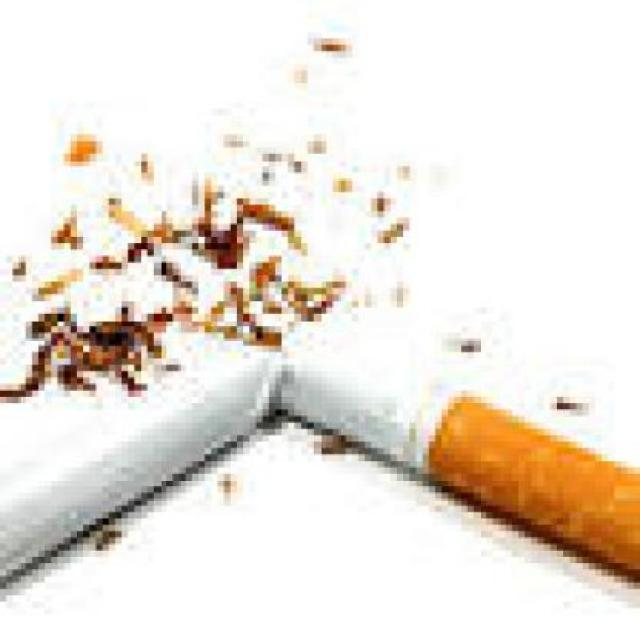cigarette: (281, 327, 634, 588), (0, 347, 269, 596)
